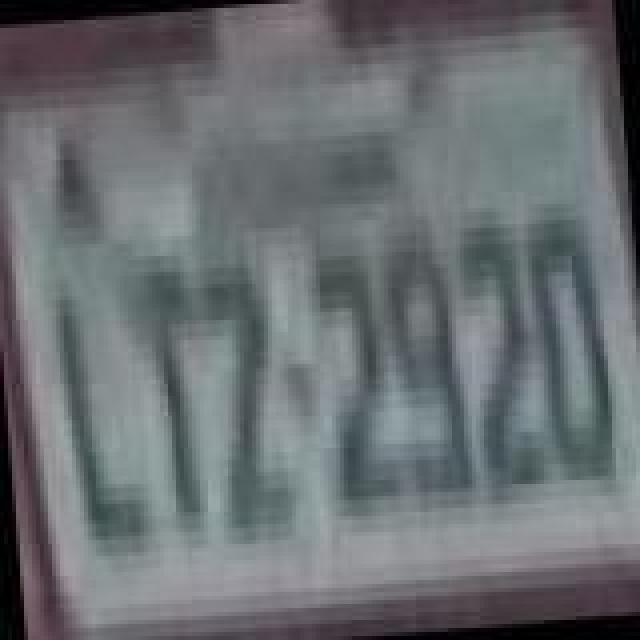2: (456, 218, 552, 502), (308, 258, 404, 510)
9: (384, 238, 480, 514)
L: (54, 288, 154, 544)
O: (524, 210, 620, 486)
T: (126, 260, 210, 532)
Z: (196, 276, 300, 540)
